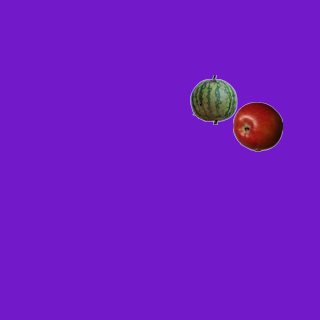Apple Braeburn: (232, 101, 282, 151)
Watermelon: (188, 74, 238, 124)
